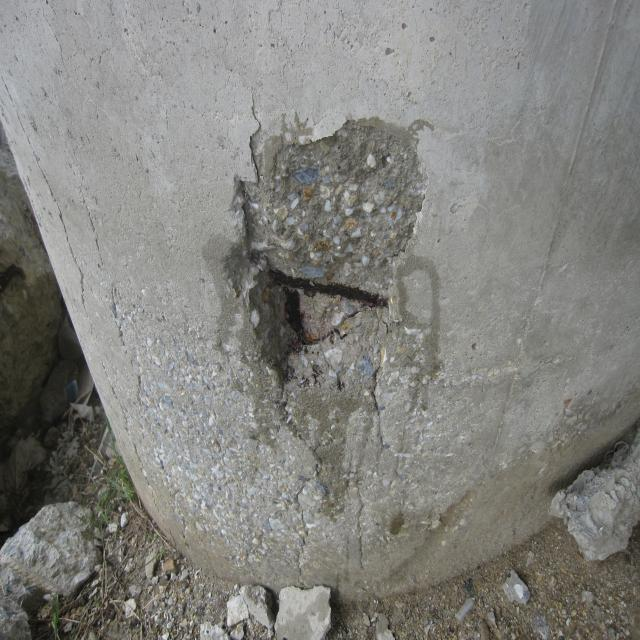corrosion: (261, 257, 396, 356)
